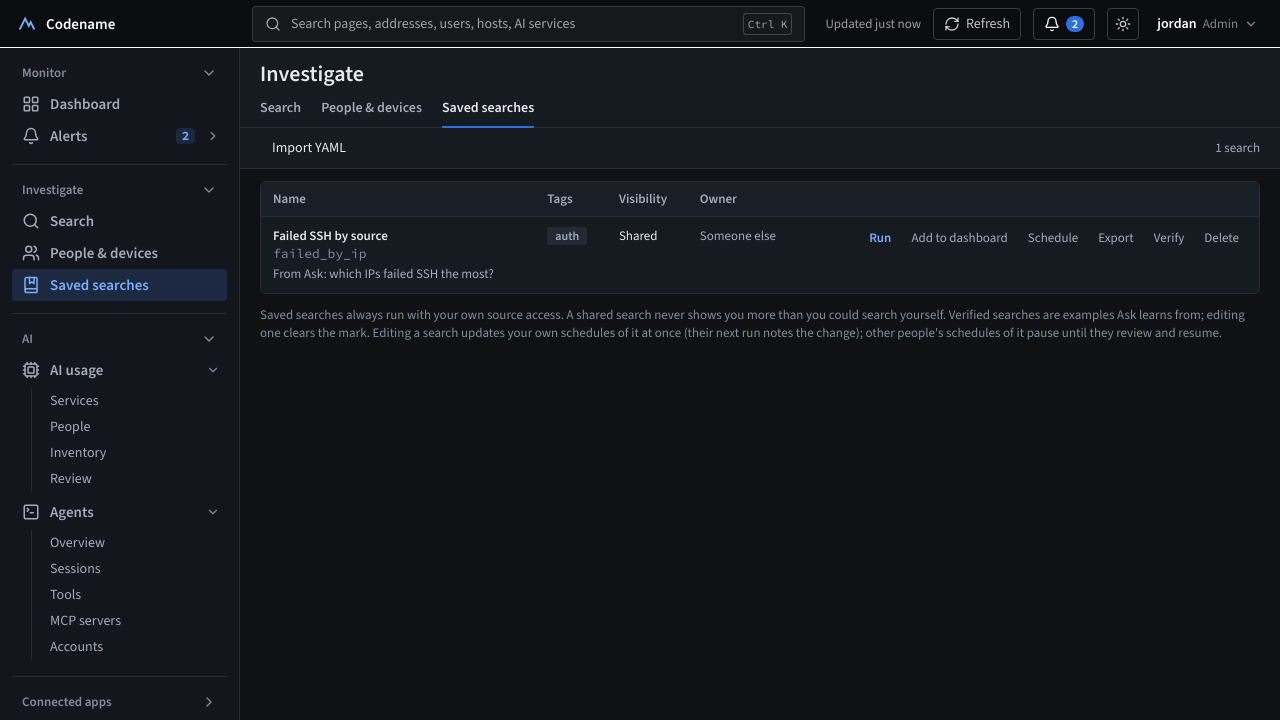
Test case: Saved searches page › lets admins mark shared searches verified
Click the button with aria-label "Verify Failed SSH by source": x=1169, y=238 [1146,227,1192,249]
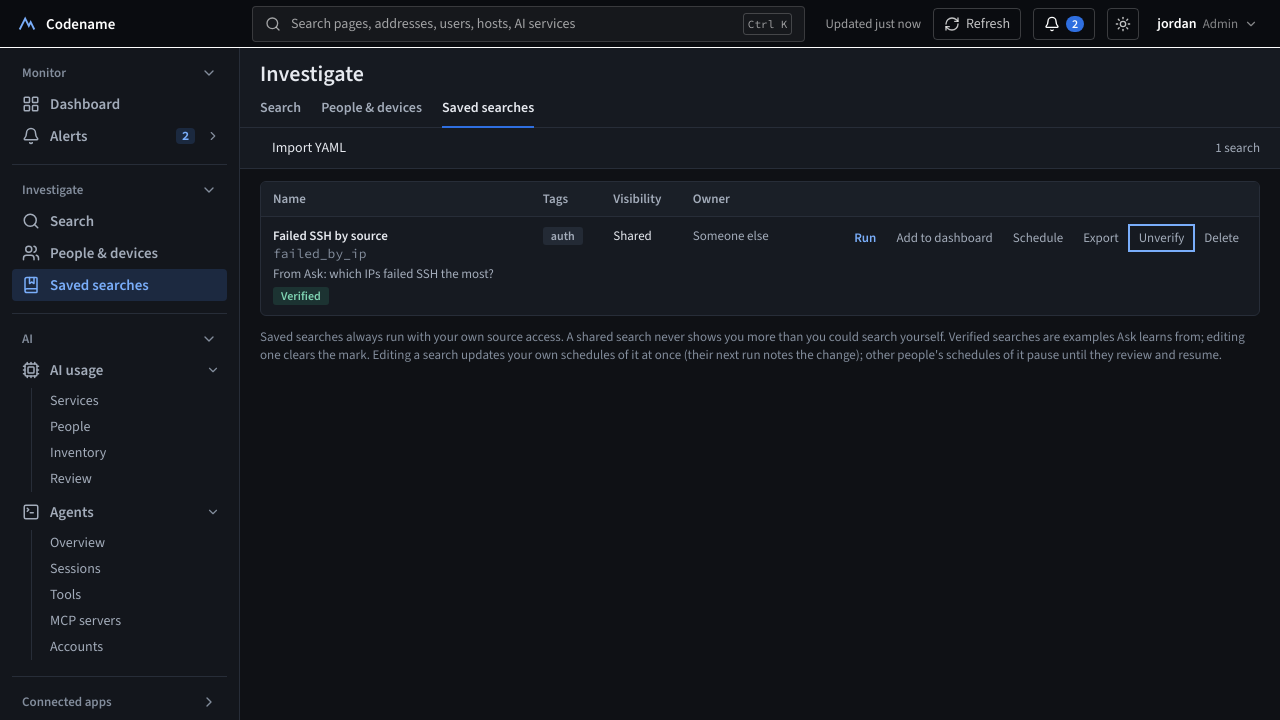
Now the text "Verified" is shown, box [273,287,329,305]
Now the button with aria-label "Unverify Failed SSH by source" is shown, box [1131,227,1192,249]
